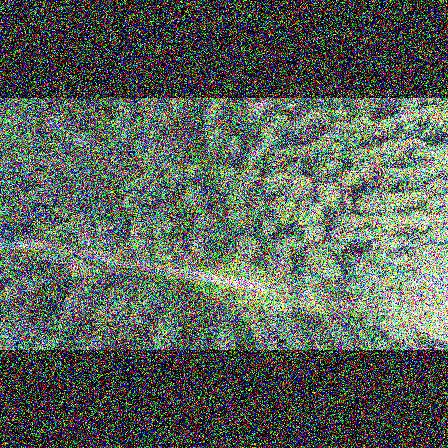Sick: (225, 136, 244, 155), (337, 192, 356, 210), (6, 108, 24, 126), (72, 133, 92, 149), (109, 117, 125, 130), (161, 157, 173, 174), (149, 145, 160, 158), (134, 137, 144, 148)
